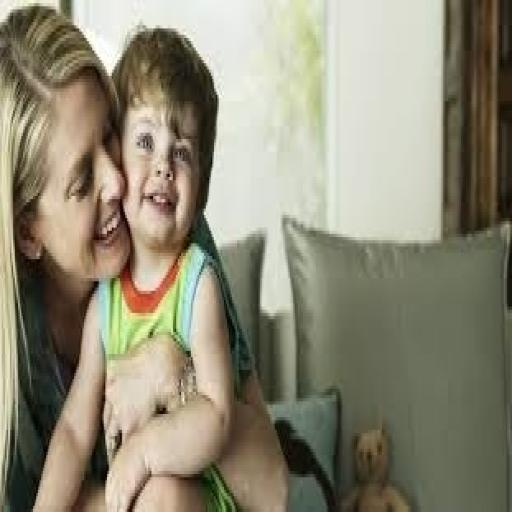hugging: (0, 3, 291, 508)
